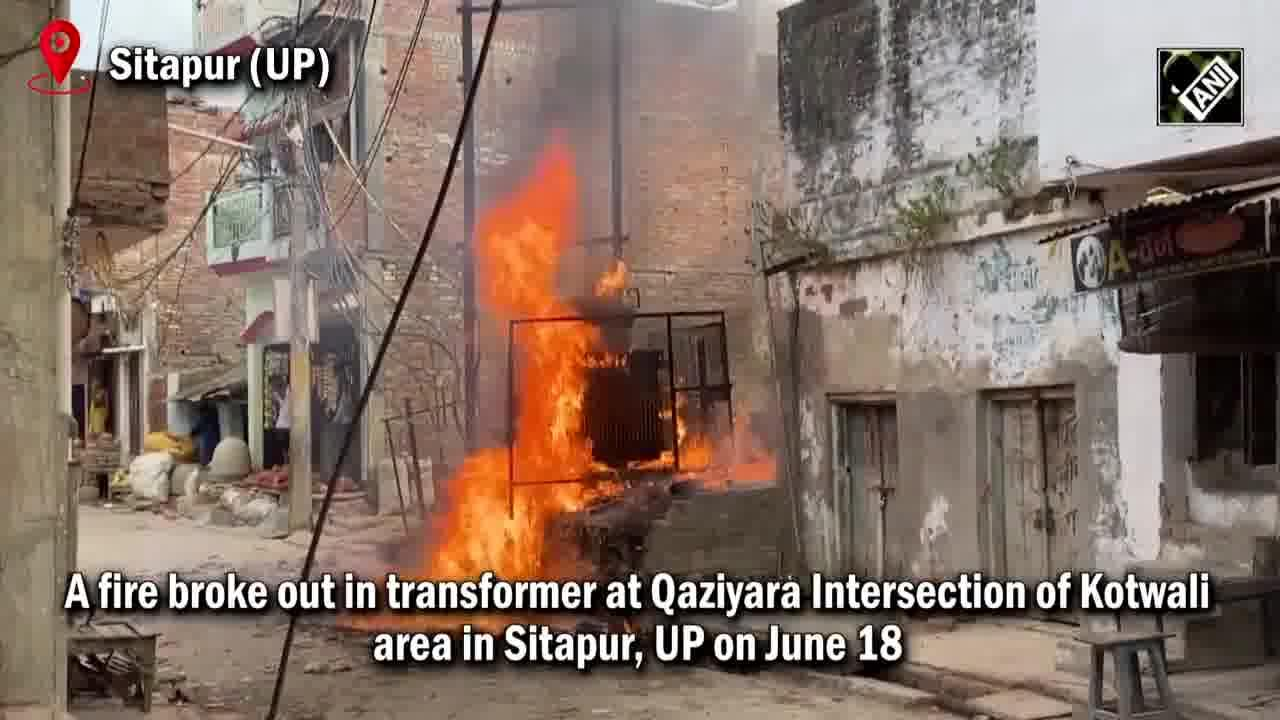fire: (453, 229, 749, 612)
smoke: (557, 18, 720, 152)
